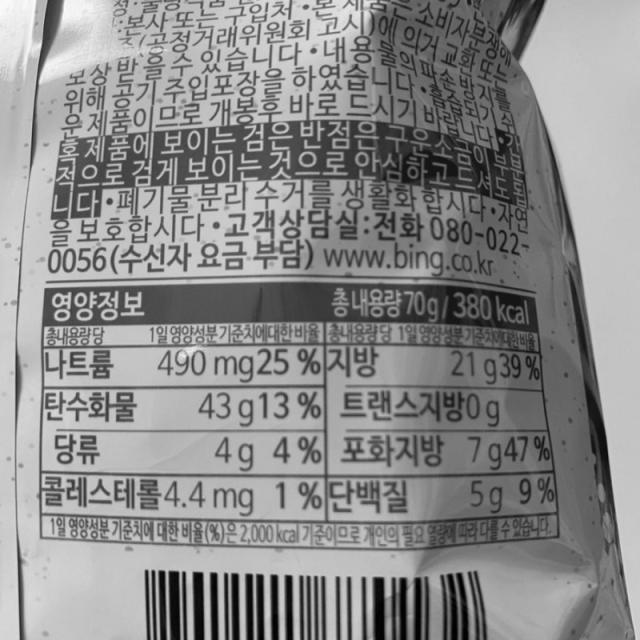Nutrition Label: (36, 280, 571, 556)
